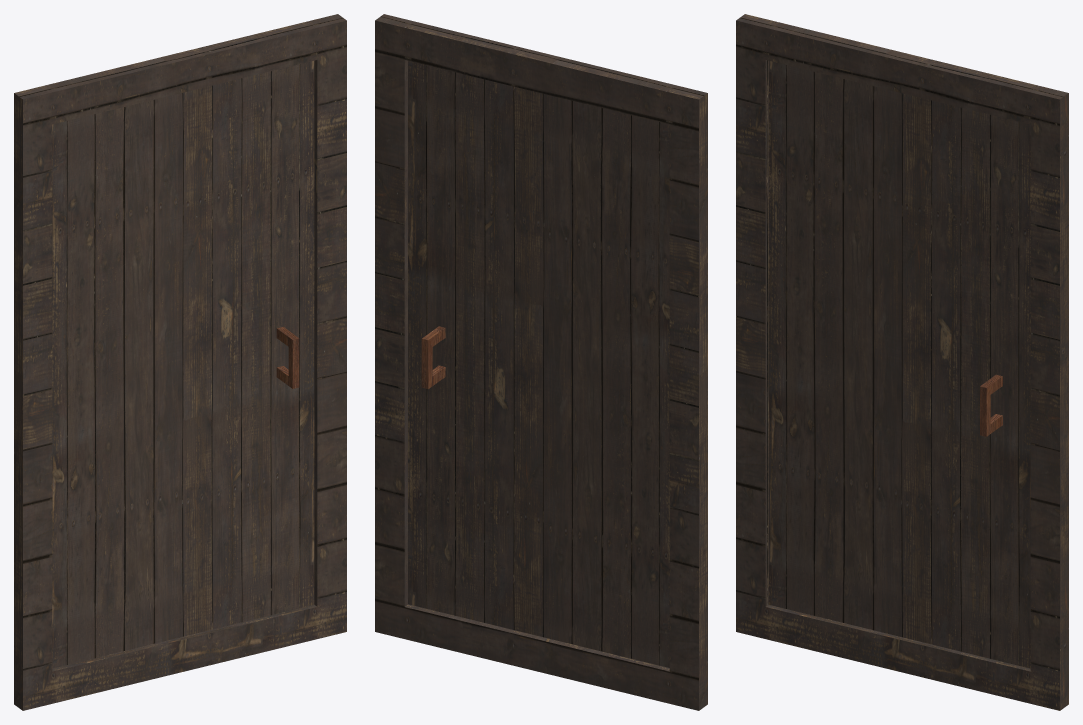
File: WoodenDoors.fbx
The picture shows the model from 3 angles, left to right: view 1: azimuth 30°, elevation 25°; view 2: azimuth 150°, elevation 25°; view 3: azimuth 330°, elevation 25°; orthographic projection.
Visible parts, largest first — view 1: DreveneDvereFIXNUT; view 2: DreveneDvereFIXNUT; view 3: DreveneDvereFIXNUT.
Part boxes in pixels (bbox=[...]): DreveneDvereFIXNUT: bbox=[14, 14, 346, 710]; DreveneDvereFIXNUT: bbox=[375, 14, 707, 710]; DreveneDvereFIXNUT: bbox=[736, 14, 1068, 710].
Size of the model in its own units: 111 by 200 by 20.94.
